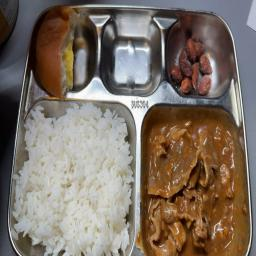100_beef: (144, 118, 240, 252)
100_rice: (18, 102, 131, 253)
50_bread: (32, 6, 96, 97)
50_nuts: (166, 24, 225, 98)
empty: (99, 15, 158, 93)
